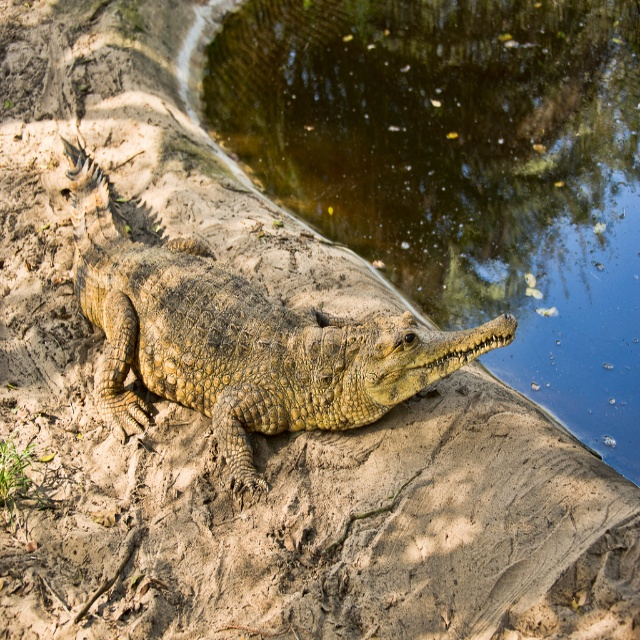Crocodile: (59, 133, 518, 499)
